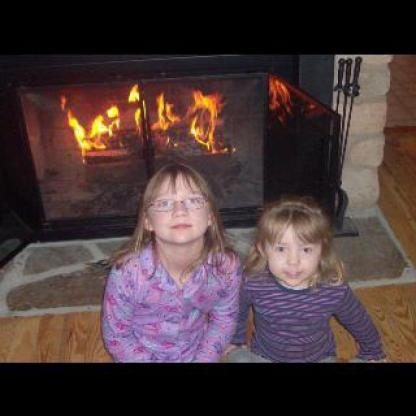fire: (59, 81, 236, 161), (267, 71, 308, 121)
